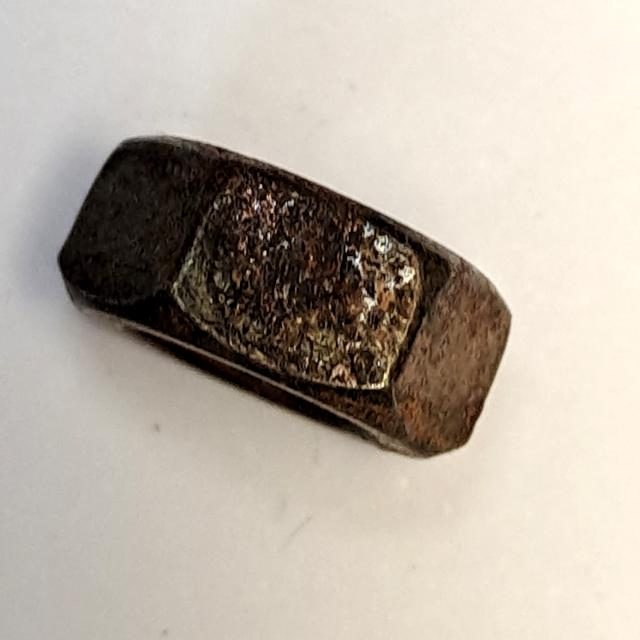Side_Rust: (38, 107, 530, 474)
